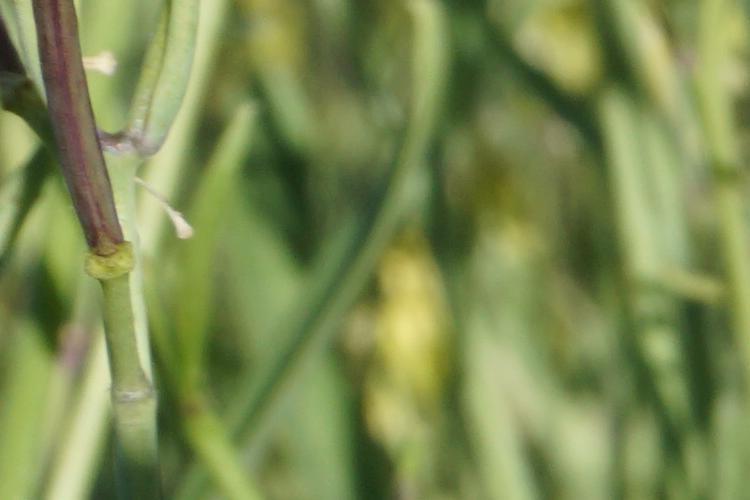pod: (28, 4, 145, 263)
